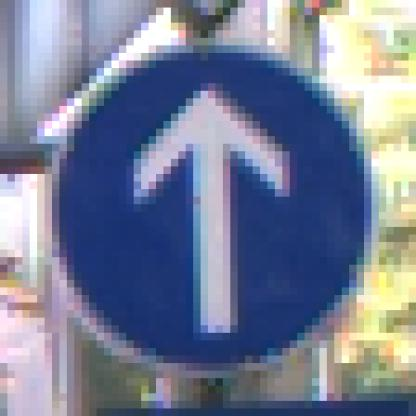AheadOnly: (46, 39, 373, 379)
